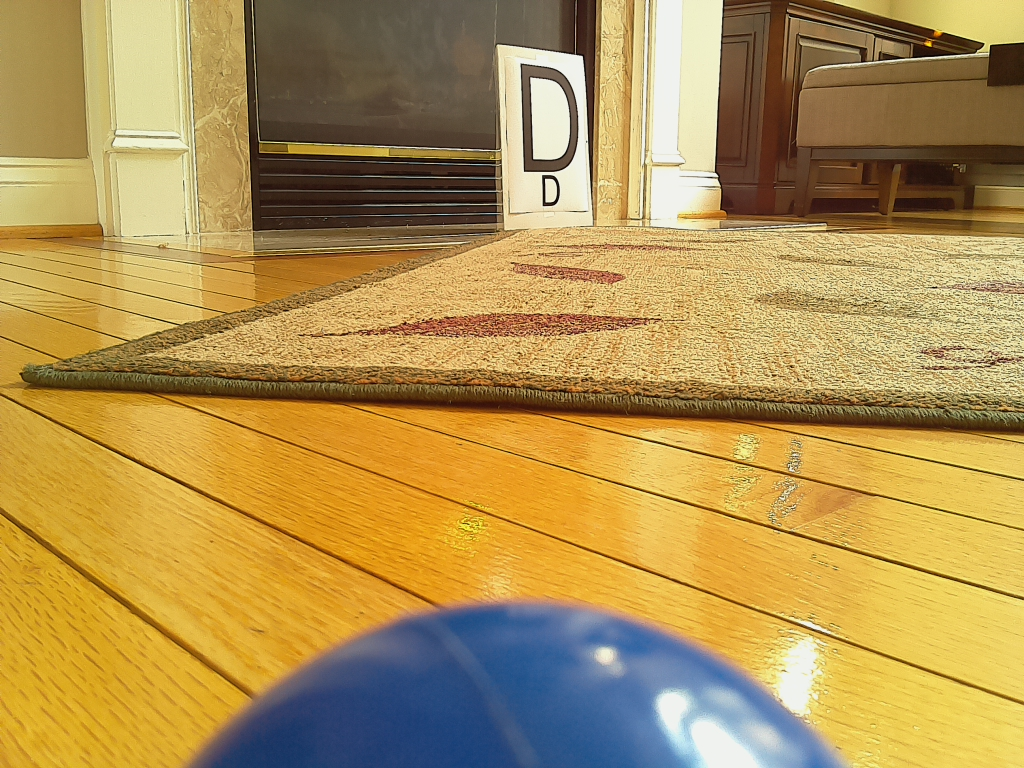letter: (523, 65, 578, 171)
